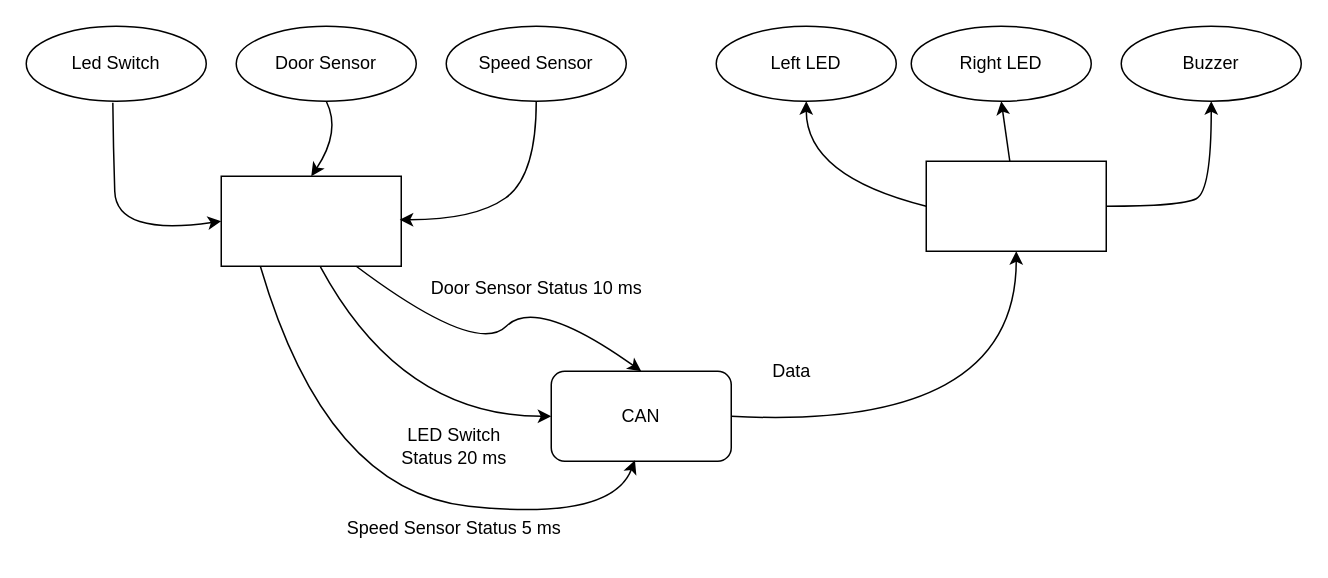
Some shapes in this 1328 by 578 pixel diagram are drawn without their labels. The shapes that lost their labels are listed below. From the top down, each one's centre as x and y in pixels, then its label:
(310,220): ECU 01
(1015,205): ECU 02
